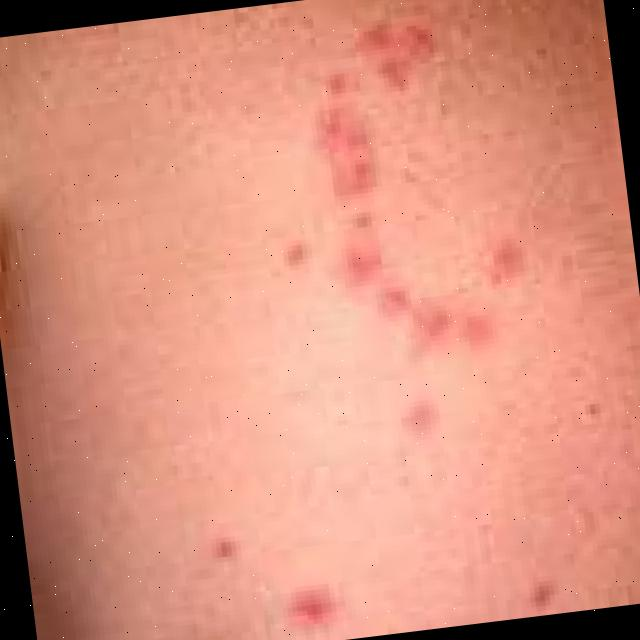tahta-kurusu: (356, 273, 527, 377), (323, 11, 464, 95), (386, 385, 490, 496), (289, 211, 404, 302), (288, 102, 396, 191), (263, 579, 354, 629)
